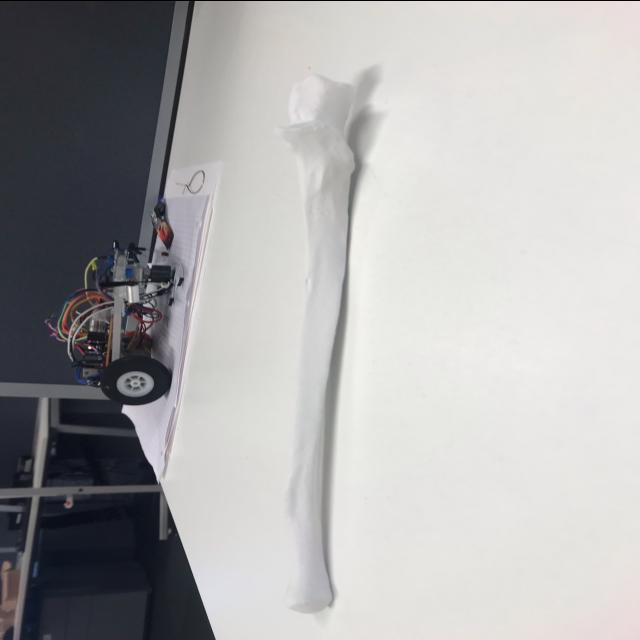bone: (273, 63, 375, 620)
